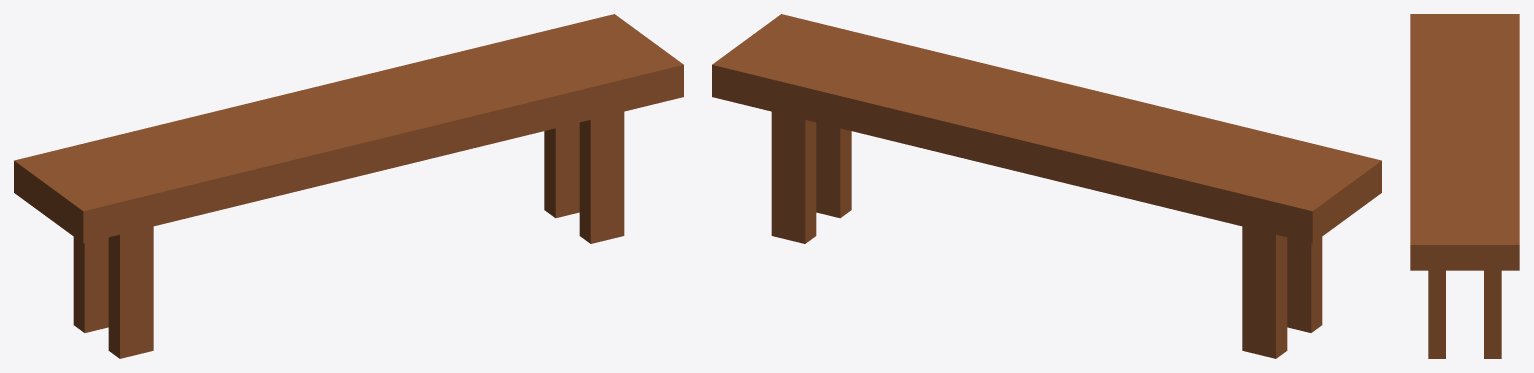
The model's file is Skameuka.fbx.
The picture shows the model from 3 angles, left to right: view 1: azimuth 30°, elevation 25°; view 2: azimuth 150°, elevation 25°; view 3: azimuth 270°, elevation 25°; orthographic projection. The views are drawn at different scales.
Visible parts, largest first — view 1: Cube; view 2: Cube; view 3: Cube.
Boxes of the visible parts, bbox=[...] form: Cube: bbox=[14, 14, 683, 358]; Cube: bbox=[712, 14, 1381, 358]; Cube: bbox=[1410, 14, 1519, 358].
Size of the model in its own units: 394 by 105 by 78.88.
